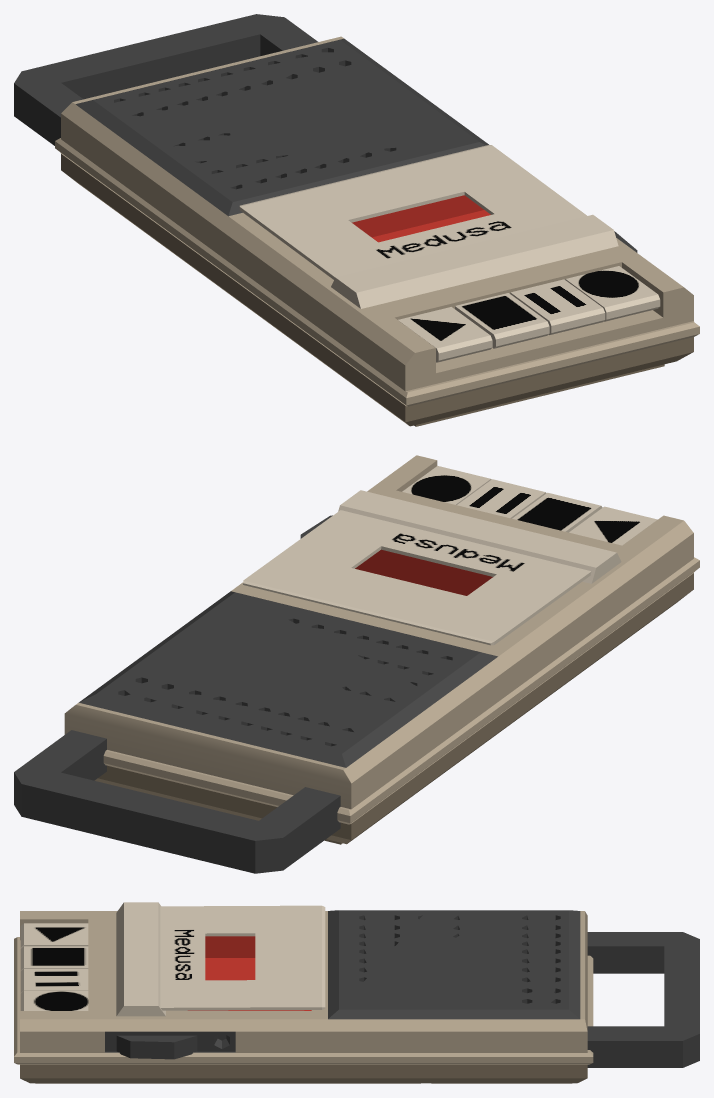
File: tapePlayer.fbx
3 views of the same model, one above another, from view 1: azimuth 30°, elevation 25°; view 2: azimuth 150°, elevation 25°; view 3: azimuth 270°, elevation 25° (orthographic). The views are drawn at different scales.
Parts seen in each view (by area): view 1: tape_player, tape_gard_thing, handel, tape_deck_key1, tape_deck_key2, tape_deck_key3, tape_deck_key; view 2: tape_player, tape_gard_thing, handel, tape_deck_key1, tape_deck_key2, tape_deck_key3, tape_deck_key; view 3: tape_player, tape_gard_thing, handel, tape_deck_key, tape_deck_key1, tape_deck_key2, tape_deck_key3.
Part boxes in pixels (<box>): tape_player: <box>55,36,699,426</box>; tape_gard_thing: <box>239,145,586,279</box>; handel: <box>14,14,317,145</box>; tape_deck_key1: <box>455,293,549,348</box>; tape_deck_key2: <box>510,279,605,334</box>; tape_deck_key3: <box>565,266,660,321</box>; tape_deck_key: <box>398,307,492,362</box>; tape_player: <box>64,455,699,844</box>; tape_gard_thing: <box>243,510,591,645</box>; handel: <box>14,730,340,873</box>; tape_deck_key1: <box>512,492,602,532</box>; tape_deck_key2: <box>457,479,546,518</box>; tape_deck_key3: <box>402,466,491,504</box>; tape_deck_key: <box>569,506,657,545</box>; tape_player: <box>14,902,593,1083</box>; tape_gard_thing: <box>160,905,325,1010</box>; handel: <box>587,932,699,1067</box>; tape_deck_key: <box>20,923,88,948</box>; tape_deck_key1: <box>20,946,88,970</box>; tape_deck_key2: <box>20,968,88,993</box>; tape_deck_key3: <box>20,990,88,1010</box>.
Bounding box in the file's own units: 1.51 × 0.4565 × 3.58.
1 material, 1 textured.
